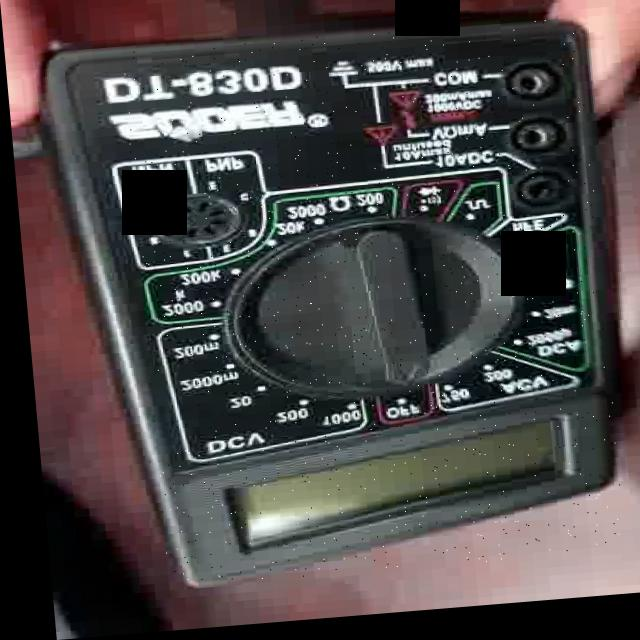multimeter: (120, 25, 615, 590)
